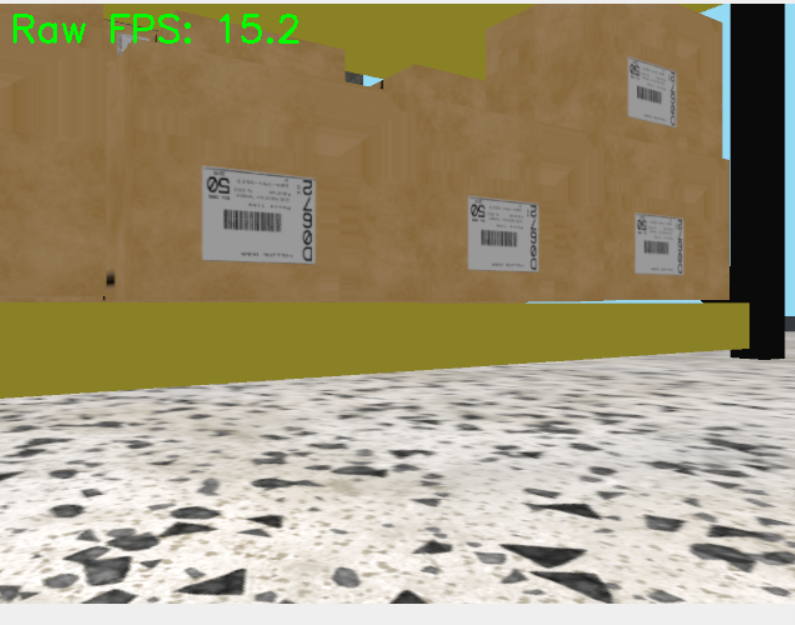barcode: (199, 164, 319, 267), (466, 196, 542, 274), (626, 56, 679, 130), (634, 213, 686, 277)
